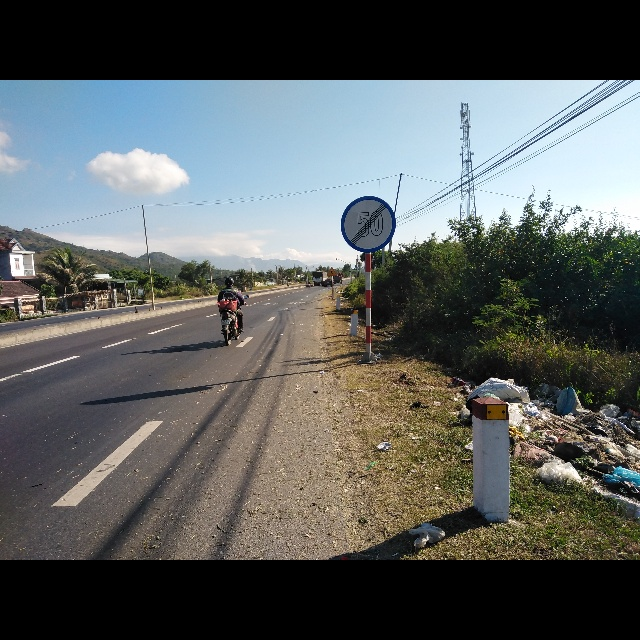Hết hạn chế tốc độ tối đa 50km/h: (340, 192, 397, 252)
